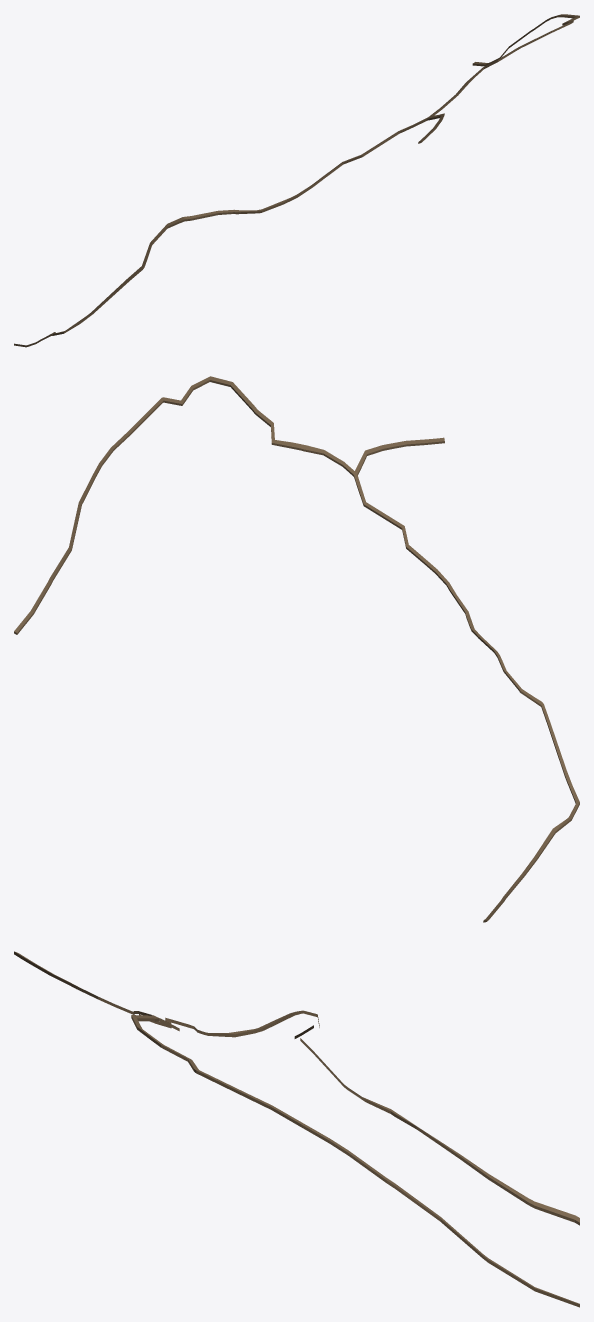
The model's file is 17-109432-59493.020dec88.glb.
3 renders of one model, top to bottom at view 1: azimuth 30°, elevation 25°; view 2: azimuth 150°, elevation 25°; view 3: azimuth 270°, elevation 25°, orthographic. The views are drawn at different scales.
Bounding box in the file's own units: 185 × 120 × 121.
